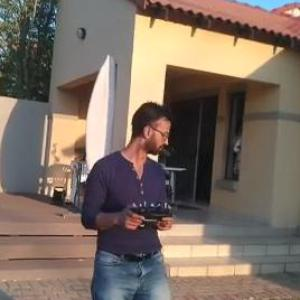follow: (80, 98, 180, 299)
